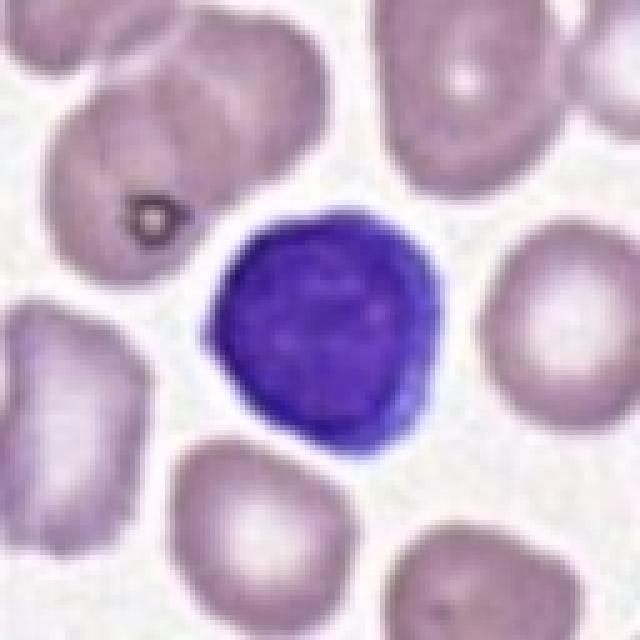lympho: (194, 200, 451, 458)
